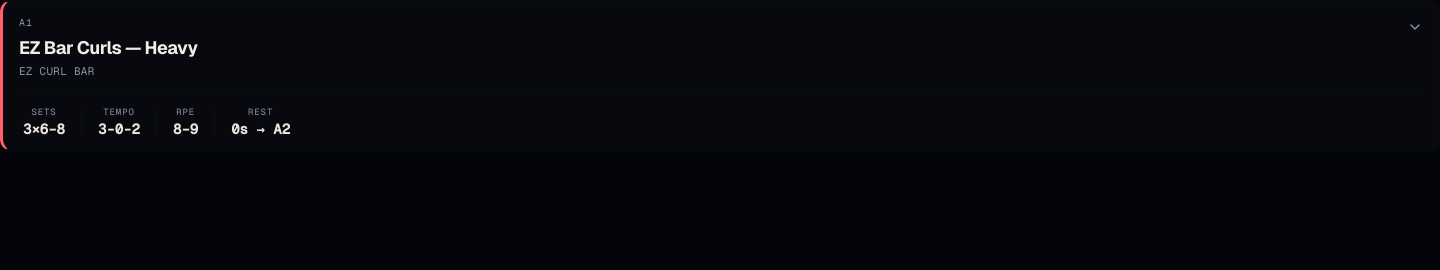
Test: ExerciseCard › expands on click to show cue
The width and height of the screenshot is (1440, 270).
Click the button "EZ Bar Curls": (721, 75) left=3, top=1, right=1439, bottom=150
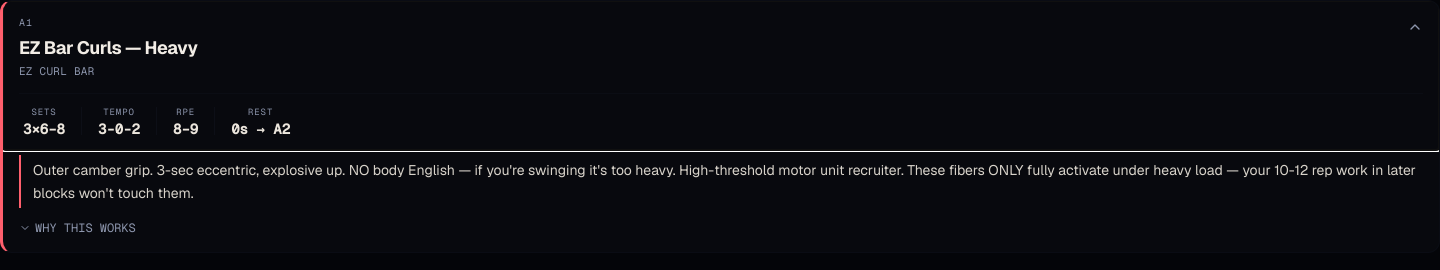
Check: the text "Outer camber grip" is shown, box left=33, top=161, right=1416, bottom=202
